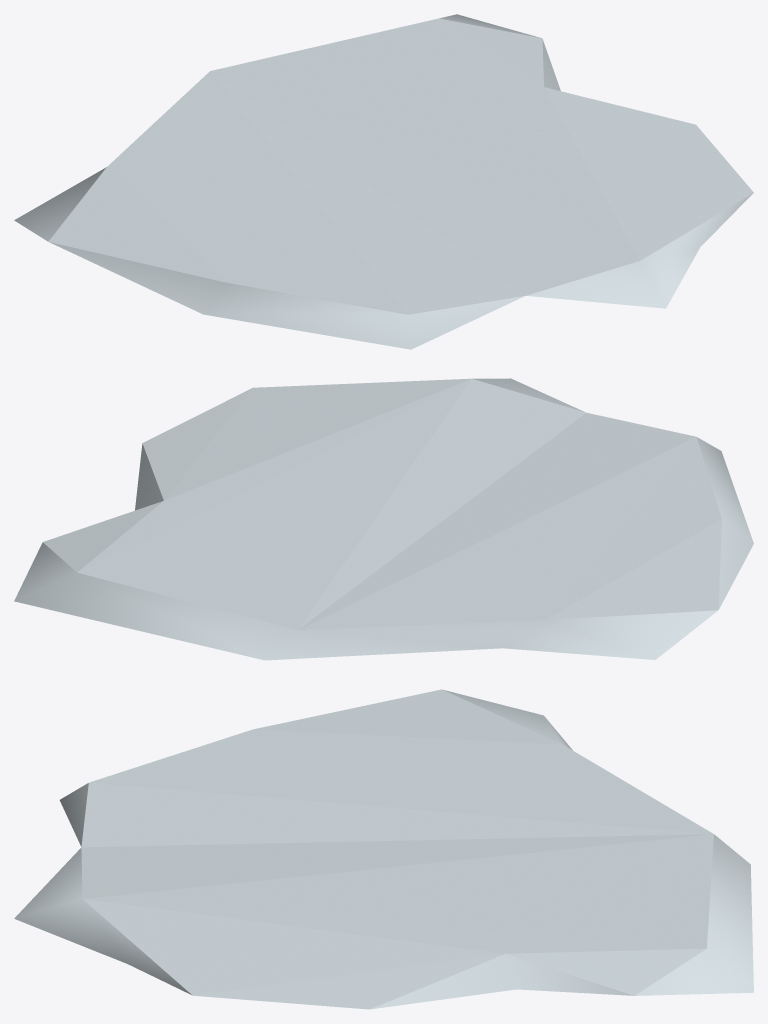
Rendered from snow-ground-lod.glb.
3 renders of one model, top to bottom at view 1: azimuth 30°, elevation 25°; view 2: azimuth 150°, elevation 25°; view 3: azimuth 270°, elevation 25°, orthographic. The views are drawn at different scales.
Visible parts, largest first — view 1: snow-ground-snow-flat-large; view 2: snow-ground-snow-flat-large; view 3: snow-ground-snow-flat-large.
Part boxes in pixels (<box>): snow-ground-snow-flat-large: <box>14,14,753,349</box>; snow-ground-snow-flat-large: <box>14,378,753,660</box>; snow-ground-snow-flat-large: <box>14,689,753,1009</box>.
Bounding box in the file's own units: 8 × 0.28 × 8.
1 material, 1 textured.
